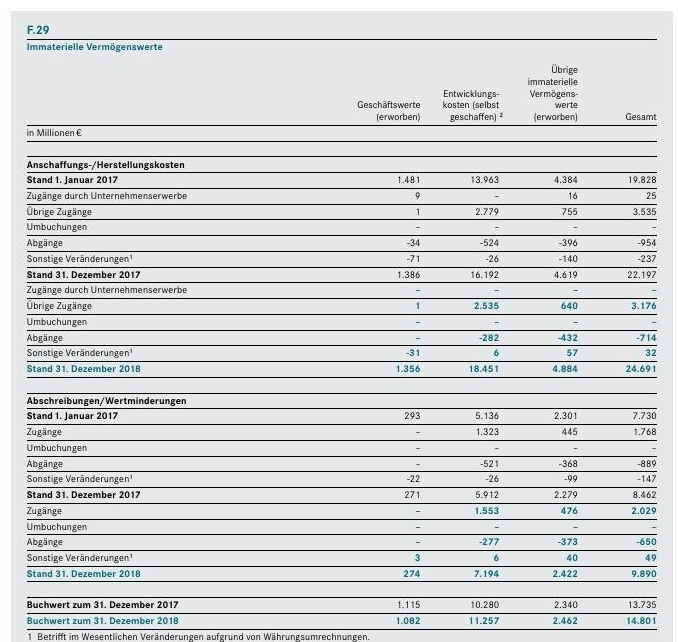table: (0, 0, 678, 642)
